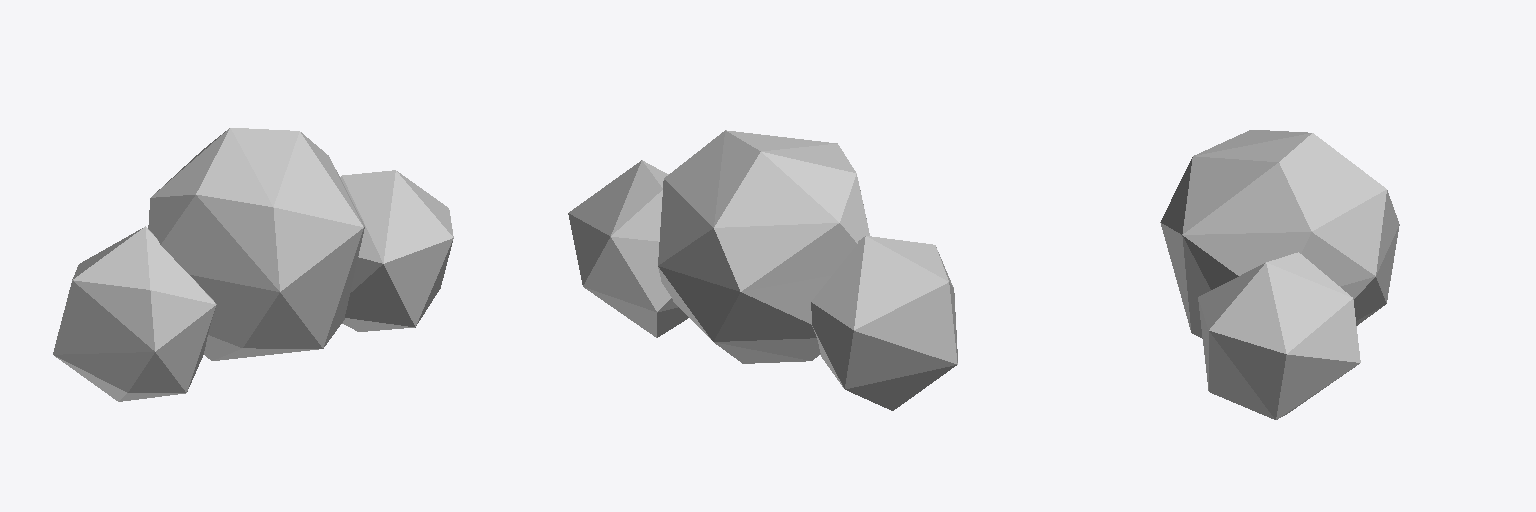
File: Cloud8.obj
3 renders of one model, left to right at view 1: azimuth 30°, elevation 25°; view 2: azimuth 150°, elevation 25°; view 3: azimuth 270°, elevation 25°, orthographic.
Parts seen in each view (by area): view 1: Cloud8_Object_76_Object_36.001; view 2: Cloud8_Object_76_Object_36.001; view 3: Cloud8_Object_76_Object_36.001.
Part boxes in pixels (x1,y1,x2,y2): Cloud8_Object_76_Object_36.001: (53, 128, 453, 401); Cloud8_Object_76_Object_36.001: (568, 130, 957, 410); Cloud8_Object_76_Object_36.001: (1160, 130, 1399, 419).
Size of the model in its own units: 2.25 by 1.3 by 1.18.